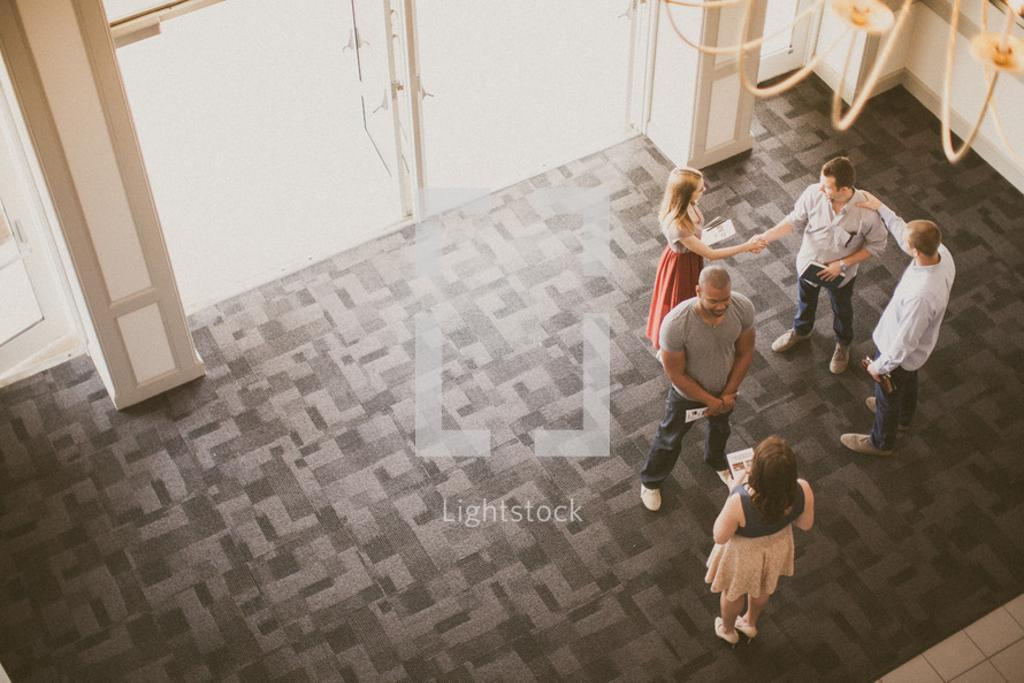face: (701, 288, 730, 316), (819, 177, 839, 200), (690, 183, 705, 200)
